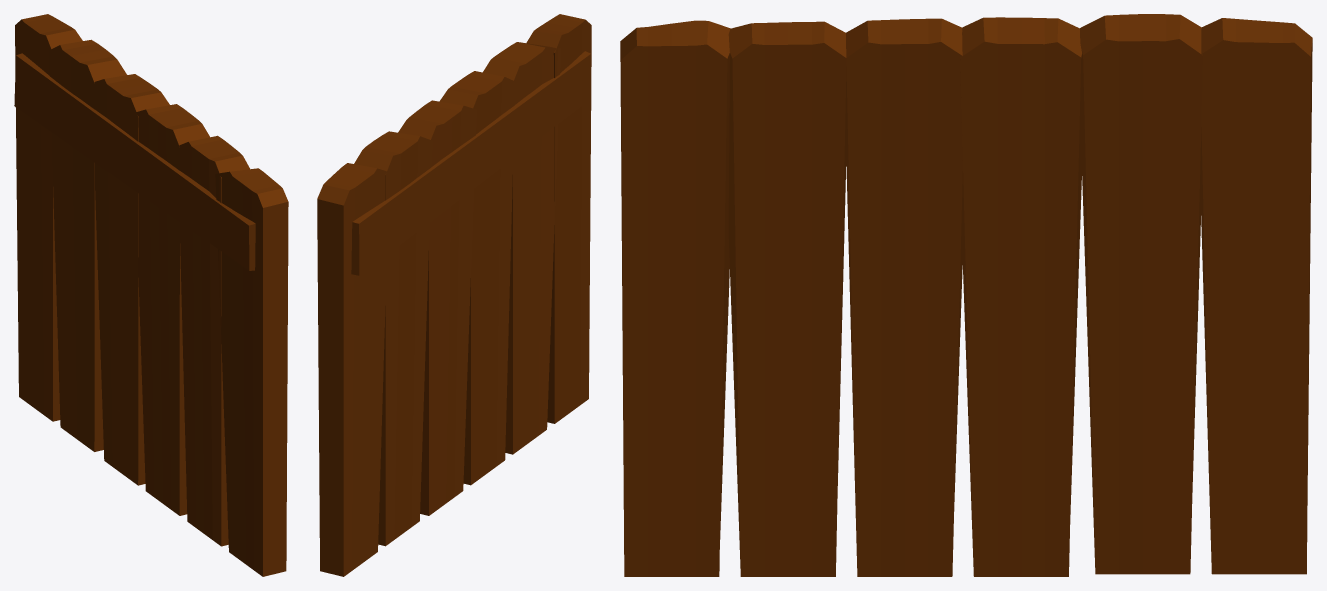
Rendered from Fence1.glb.
3 views of the same model, side by side, from view 1: azimuth 30°, elevation 25°; view 2: azimuth 150°, elevation 25°; view 3: azimuth 270°, elevation 25° (orthographic). The views are drawn at different scales.
Parts seen in each view (by area): view 1: Cube; view 2: Cube; view 3: Cube.
Boxes of the visible parts, left/top/right/bottom form: Cube: left=14, top=14, right=288, bottom=576; Cube: left=317, top=14, right=591, bottom=576; Cube: left=620, top=14, right=1312, bottom=576.
Bounding box in the file's own units: 0.083 × 0.772 × 0.8917.
1 material, 1 textured.
